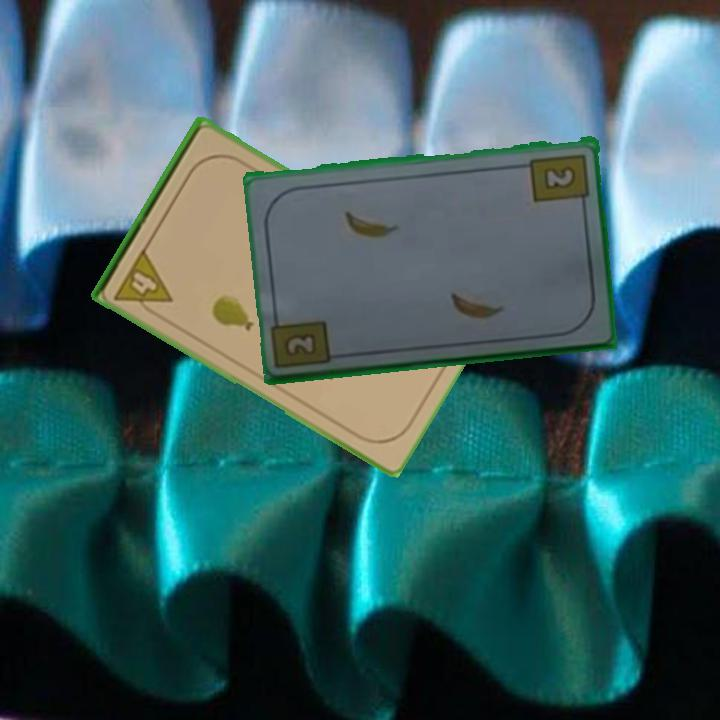2b: (527, 149, 592, 210), (284, 329, 320, 358)
4p: (111, 244, 175, 321)
